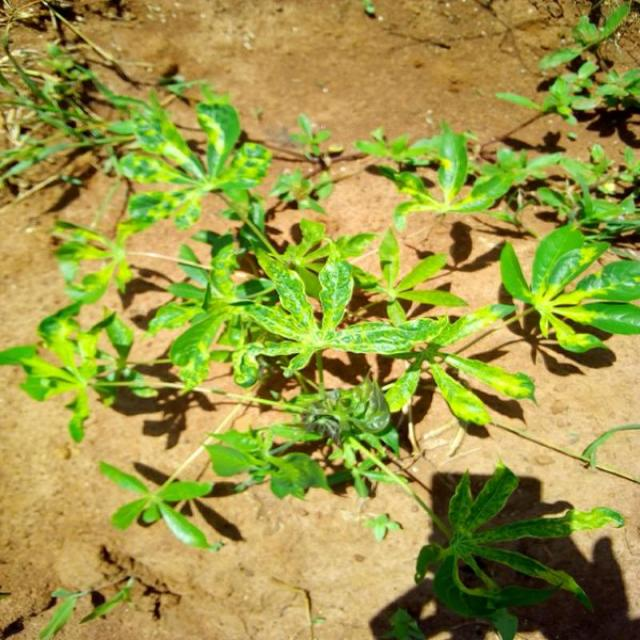cassava leaf: (415, 460, 626, 639), (500, 221, 640, 354)
